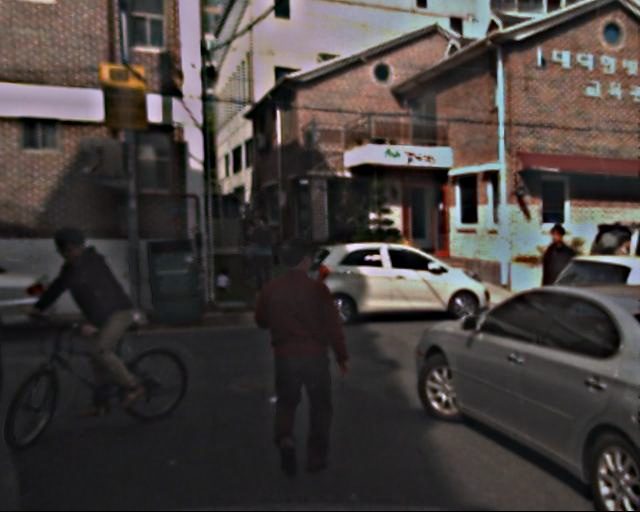person: (252, 239, 345, 474), (55, 220, 142, 419), (529, 224, 587, 364), (247, 215, 281, 293), (236, 219, 261, 276), (217, 268, 231, 296)
